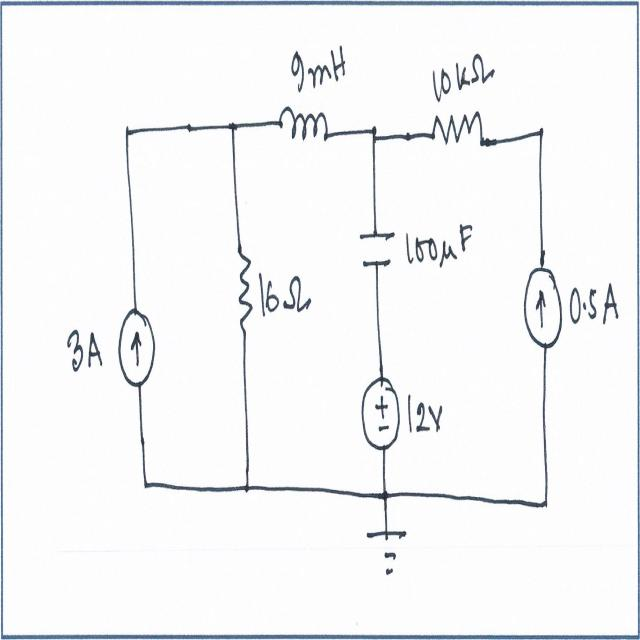capacitor: (358, 226, 396, 272)
current_source: (522, 262, 565, 351), (117, 308, 156, 391)
ground: (362, 520, 414, 587)
inductor: (279, 100, 330, 154)
resistor: (431, 108, 483, 156), (234, 252, 254, 336)
voltage_source: (359, 370, 400, 453)
